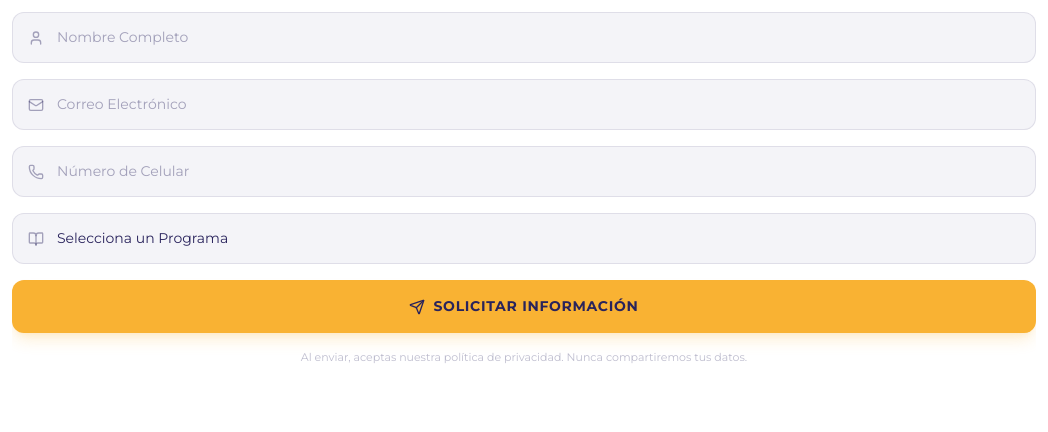
it: LeadForm › shows default error when result.success is false with no detail
Type "Juan" into the field with placeholder "Nombre Completo". click: point(524, 38)
box: [12,12,1036,63]
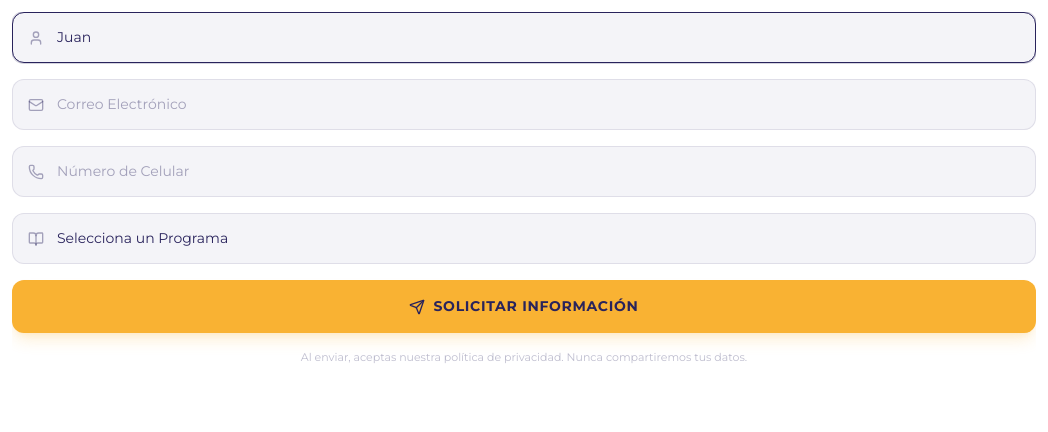
Type "j@e.com" into the field with placeholder "Correo Electrónico". click: point(524, 104)
box: [12,79,1036,130]
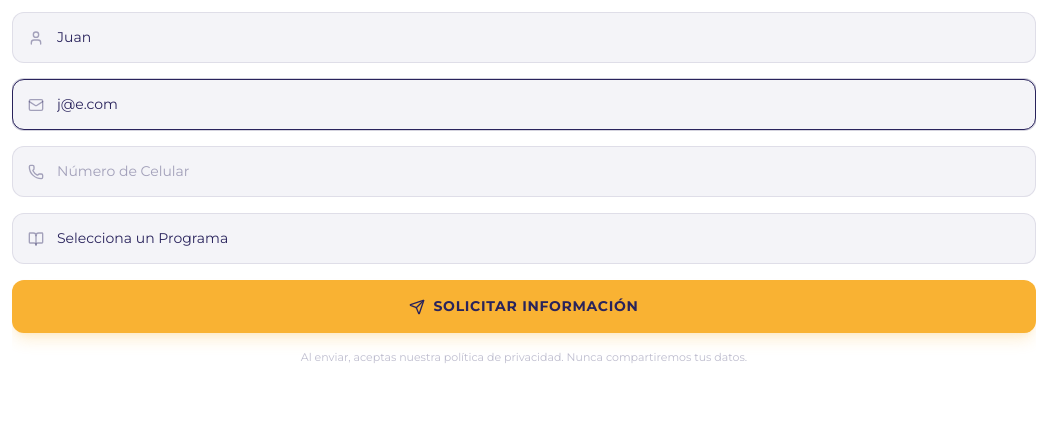
Type "300" into the field with placeholder "Número de Celular". click: point(524, 172)
box: [12,146,1036,197]
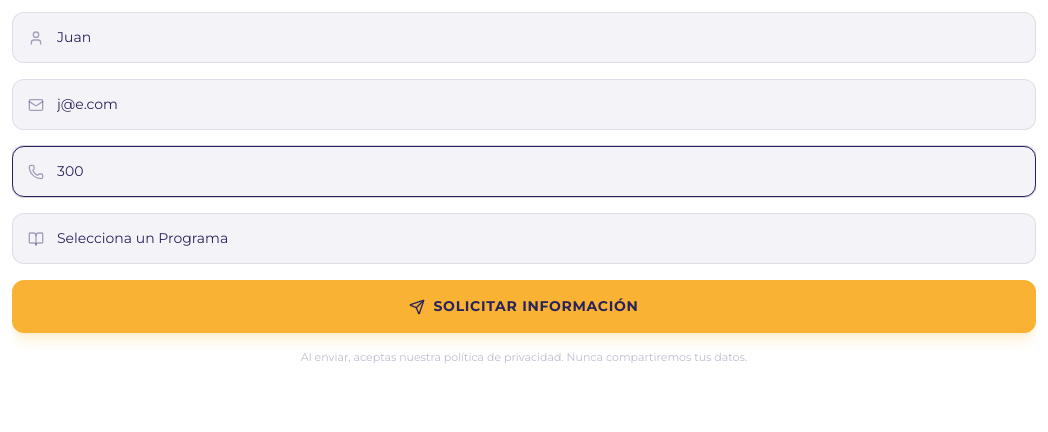
Select "Programa de Inglés" in the dropdown. click: point(524, 238)
box: [12,213,1036,264]
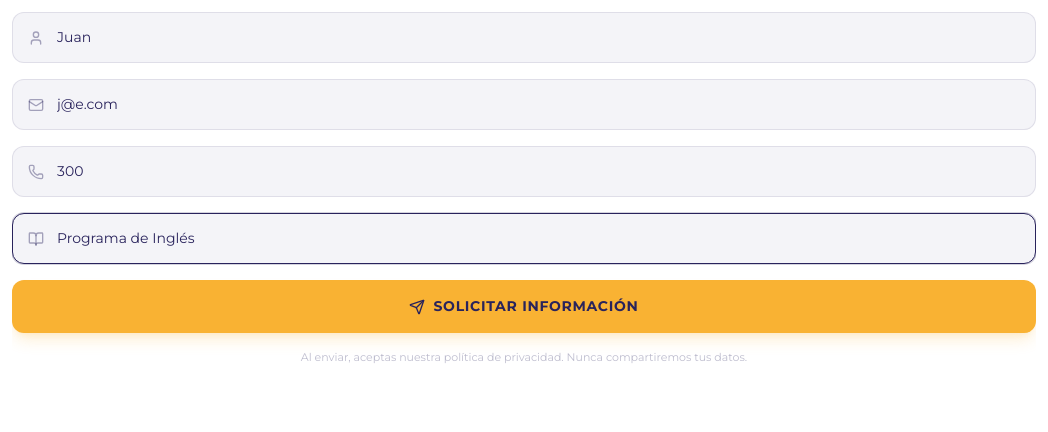
Click the button "Solicitar Información". click: point(524, 306)
box: [12,280,1036,333]
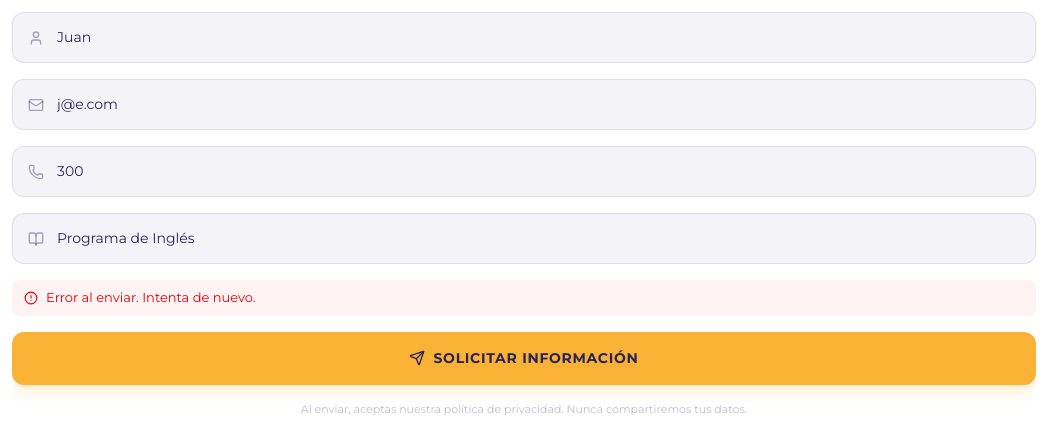
Expected: the text "Error al enviar. Intenta de nuevo." is shown, [12,280,1036,316]
